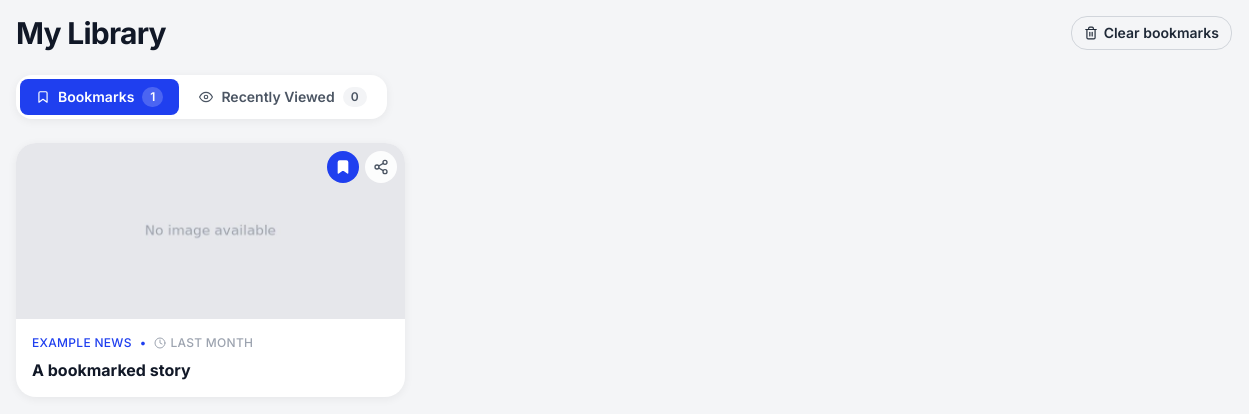
Scenario: Bookmarks page › clears bookmarks via the Clear button, leaving an empty state
Expected: the link "A bookmarked story" is shown, [32, 360, 191, 380]
Click the button "Clear bookmarks" at (1151, 33), box [1071, 16, 1232, 50]
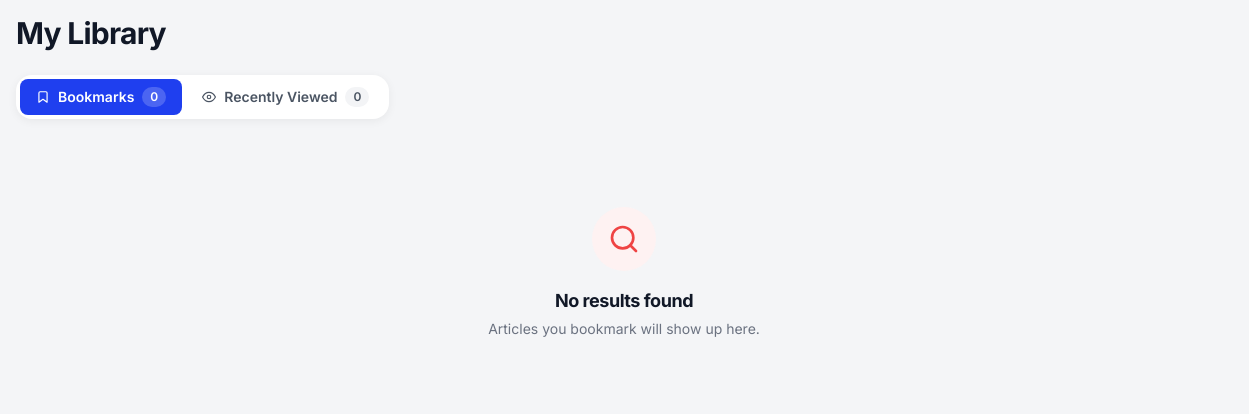
Result: the link "A bookmarked story" is gone
Result: the text "Articles you bookmark will show up here." is shown at [488, 319, 760, 339]
